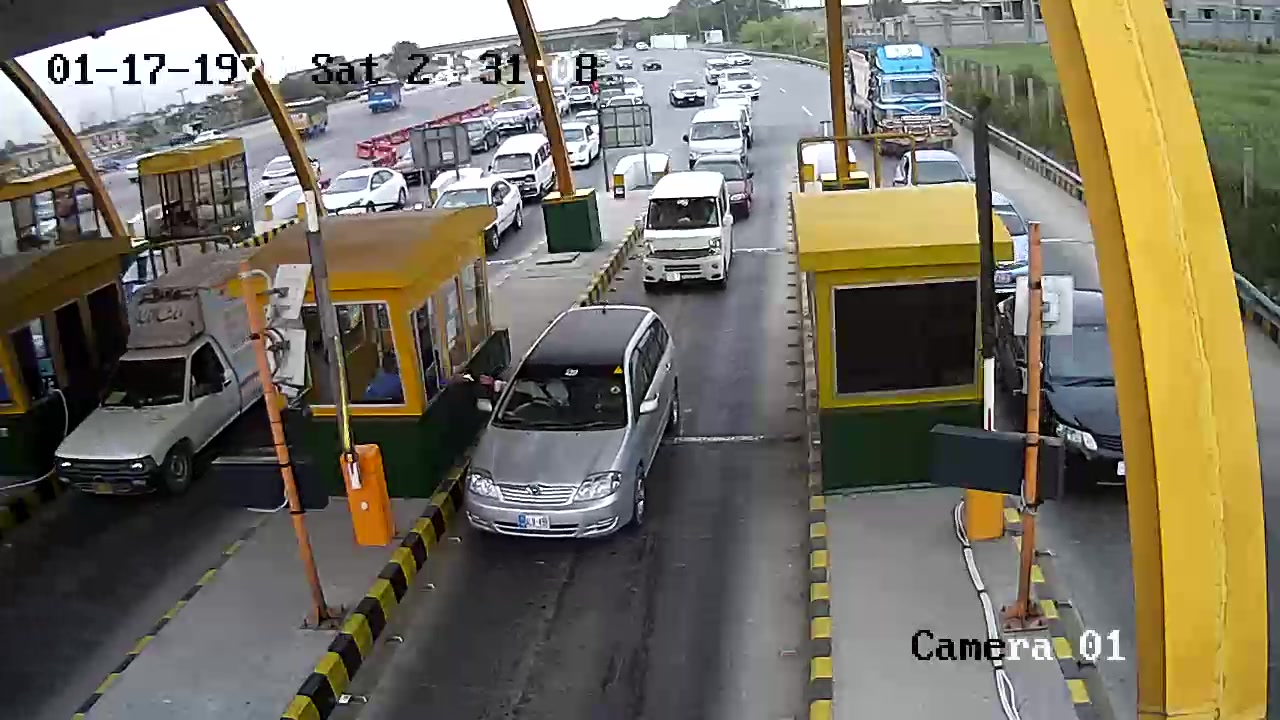F1: (452, 301, 693, 542)
